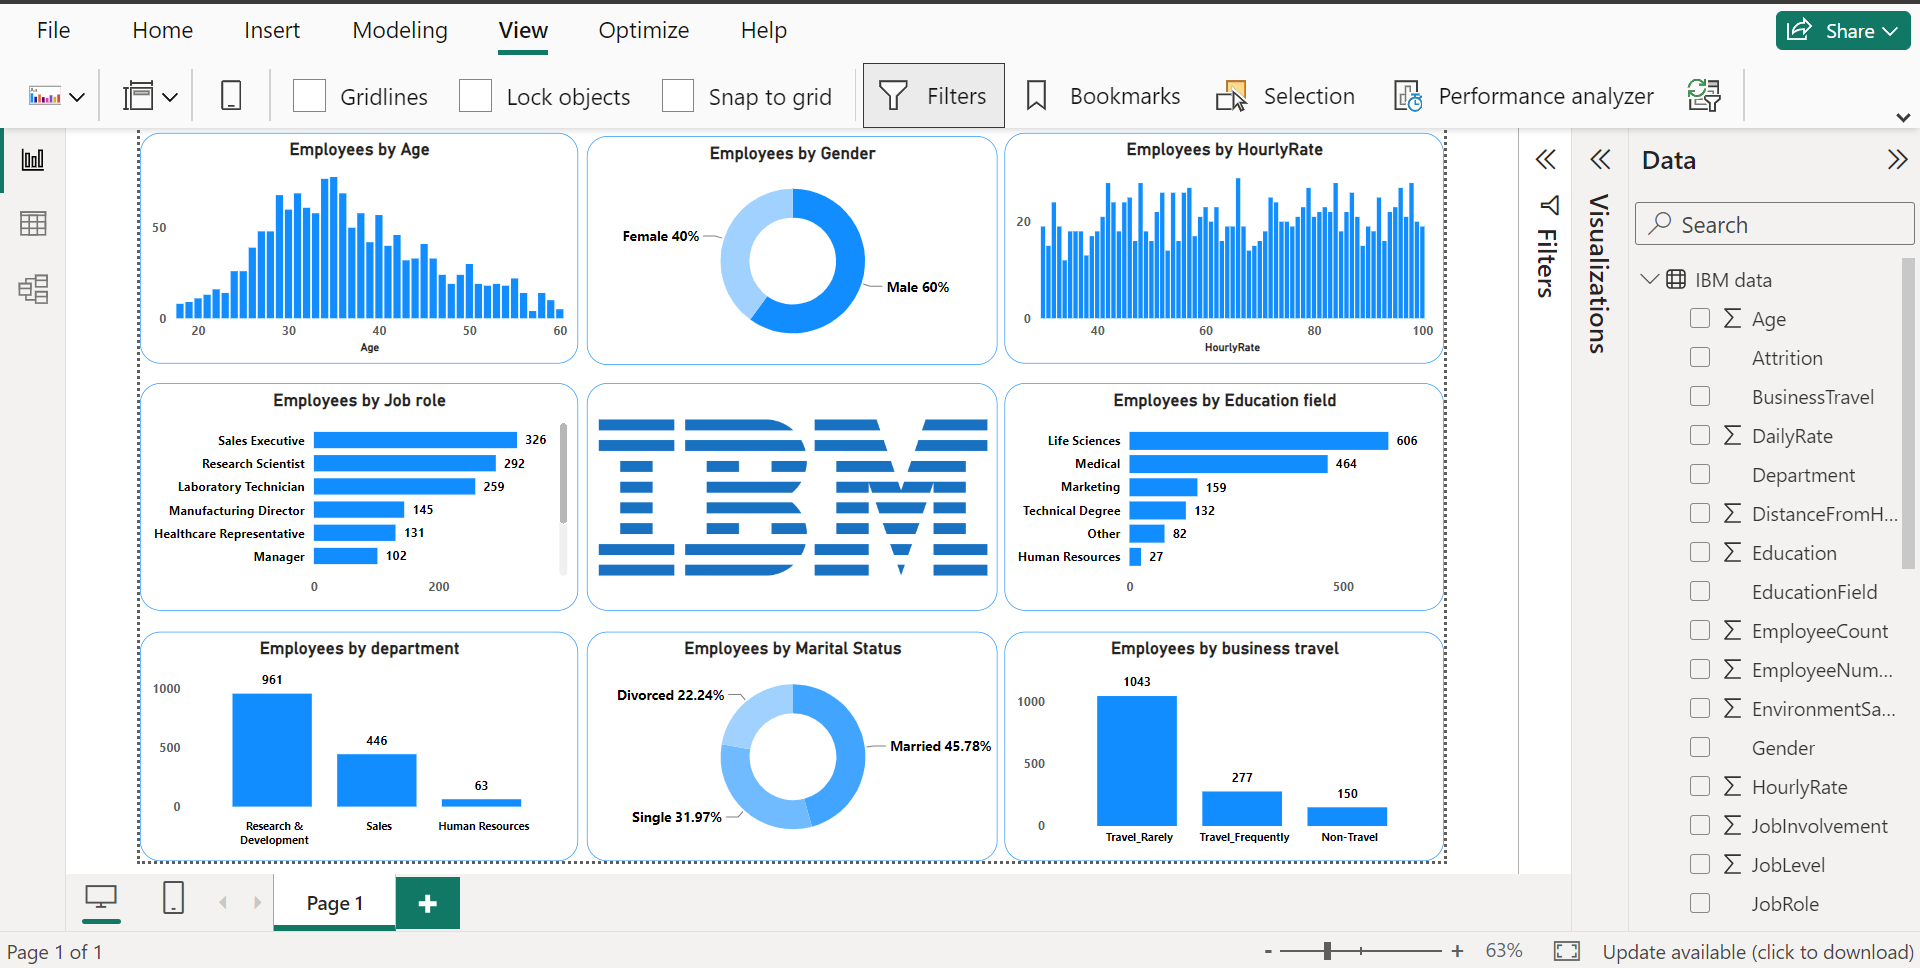

The page's visual inventory and layout, read from the dashboard file:
{"tool":"powerbi","page":{"name":"Page 1","canvas":[1280,720],"ordinal":0},"visuals":[{"type":"clusteredColumnChart","title":"Employees by HourlyRate","fields":{"Category":["IBM data.HourlyRate"],"Y":["Sum(IBM data.EmployeeCount)"]},"box":[848.3,5,431.7,226.7],"z":0},{"type":"clusteredColumnChart","title":"Employees by Age","fields":{"Category":["IBM data.Age"],"Y":["Sum(IBM data.EmployeeCount)"]},"box":[0,5,430,226.7],"z":1000},{"type":"clusteredBarChart","title":"Employees by Education field","fields":{"Category":["IBM data.EducationField"],"Y":["Sum(IBM data.EmployeeCount)"]},"box":[848.3,250,431.7,223.3],"z":2000},{"type":"clusteredBarChart","title":"Employees by Job role","fields":{"Category":["IBM data.JobRole"],"Y":["Sum(IBM data.EmployeeCount)"]},"box":[0,250,430,223.3],"z":3000},{"type":"clusteredColumnChart","title":"Employees by business travel","fields":{"Category":["IBM data.BusinessTravel"],"Y":["Sum(IBM data.EmployeeCount)"]},"box":[848.3,495,431.7,225],"z":4000},{"type":"clusteredColumnChart","title":"Employees by department","fields":{"Category":["IBM data.Department"],"Y":["Sum(IBM data.EmployeeCount)"]},"box":[0,495,430,225],"z":5000},{"type":"donutChart","title":"Employees by Gender","fields":{"Category":["IBM data.Gender"],"Y":["Sum(IBM data.EmployeeCount)"]},"box":[438.8,7.2,402.9,224.8],"z":6000},{"type":"donutChart","title":"Employees by Marital Status","fields":{"Category":["IBM data.MaritalStatus"],"Y":["Sum(IBM data.EmployeeCount)"]},"box":[438.3,495,403.3,225],"z":7000},{"type":"image","box":[438.3,250,403.3,223.3],"z":8000}]}

Visuals, with their boxes on the page's 1280x720 design canvas (x1, y1, x2, y2). These are canvas units, not pixel positions in the 1920x968 screenshot, which may show the page scaled, cropped or inside an application window:
"Employees by HourlyRate" clusteredColumnChart: rect(848, 5, 1280, 232)
"Employees by Age" clusteredColumnChart: rect(0, 5, 430, 232)
"Employees by Education field" clusteredBarChart: rect(848, 250, 1280, 473)
"Employees by Job role" clusteredBarChart: rect(0, 250, 430, 473)
"Employees by business travel" clusteredColumnChart: rect(848, 495, 1280, 720)
"Employees by department" clusteredColumnChart: rect(0, 495, 430, 720)
"Employees by Gender" donutChart: rect(439, 7, 842, 232)
"Employees by Marital Status" donutChart: rect(438, 495, 842, 720)
image: rect(438, 250, 842, 473)
